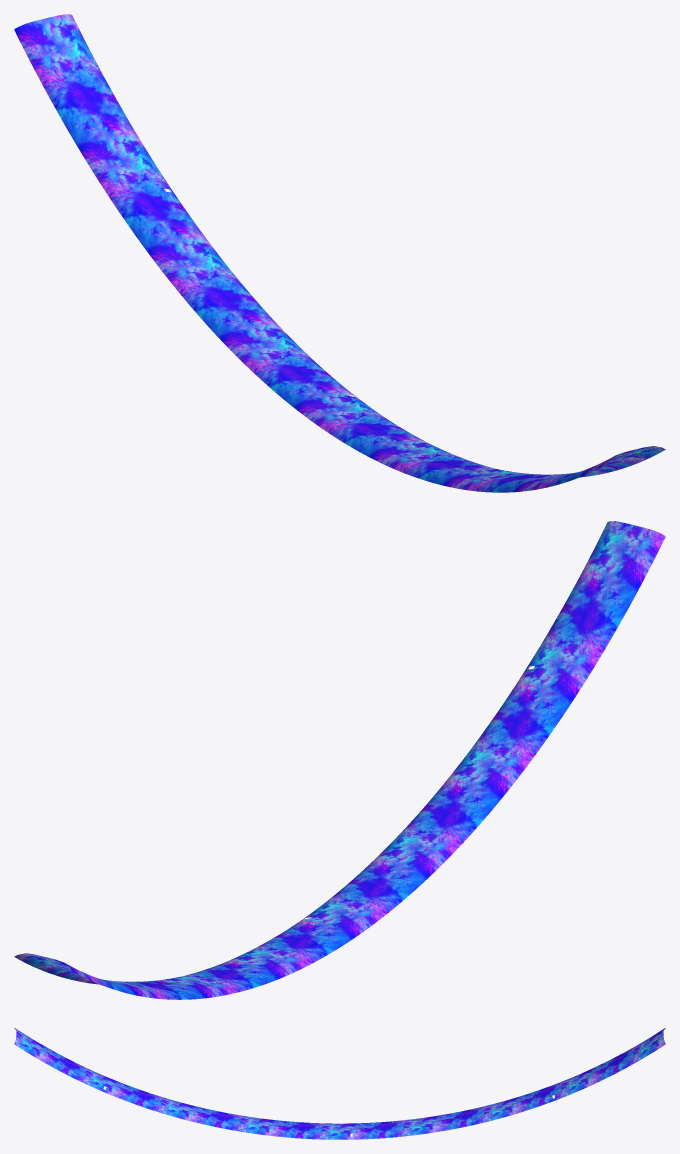
The model's file is STA20_SKYCURVE.FBX.
3 views of the same model, one above another, from view 1: azimuth 30°, elevation 25°; view 2: azimuth 150°, elevation 25°; view 3: azimuth 270°, elevation 25° (orthographic). The views are drawn at different scales.
Parts seen in each view (by area): view 1: STA20_SKYCURVE; view 2: STA20_SKYCURVE; view 3: STA20_SKYCURVE.
Part boxes in pixels (left/top/right/bottom): STA20_SKYCURVE: left=14, top=14, right=665, bottom=492; STA20_SKYCURVE: left=14, top=521, right=665, bottom=999; STA20_SKYCURVE: left=14, top=1028, right=665, bottom=1139.
Size of the model in its own units: 217 by 638 by 3822.
